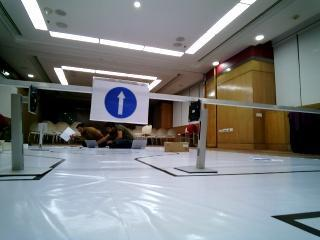straight: (95, 80, 151, 124)
